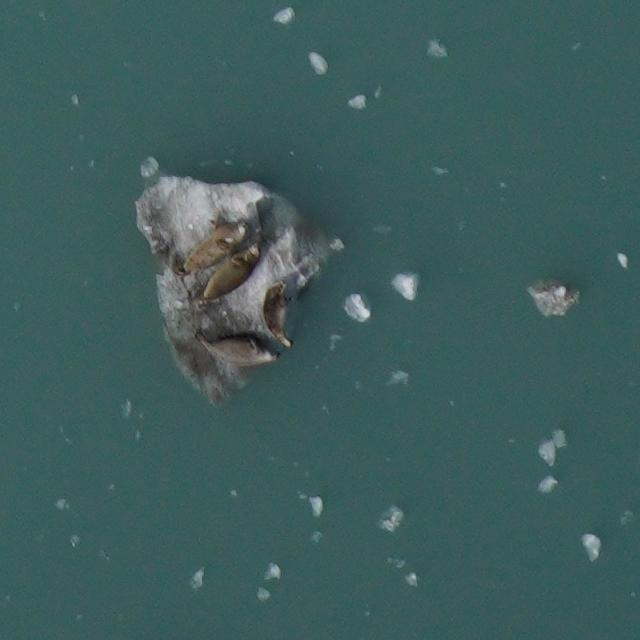seal: (167, 213, 257, 282), (187, 238, 264, 306), (193, 327, 283, 369), (260, 277, 296, 351)
